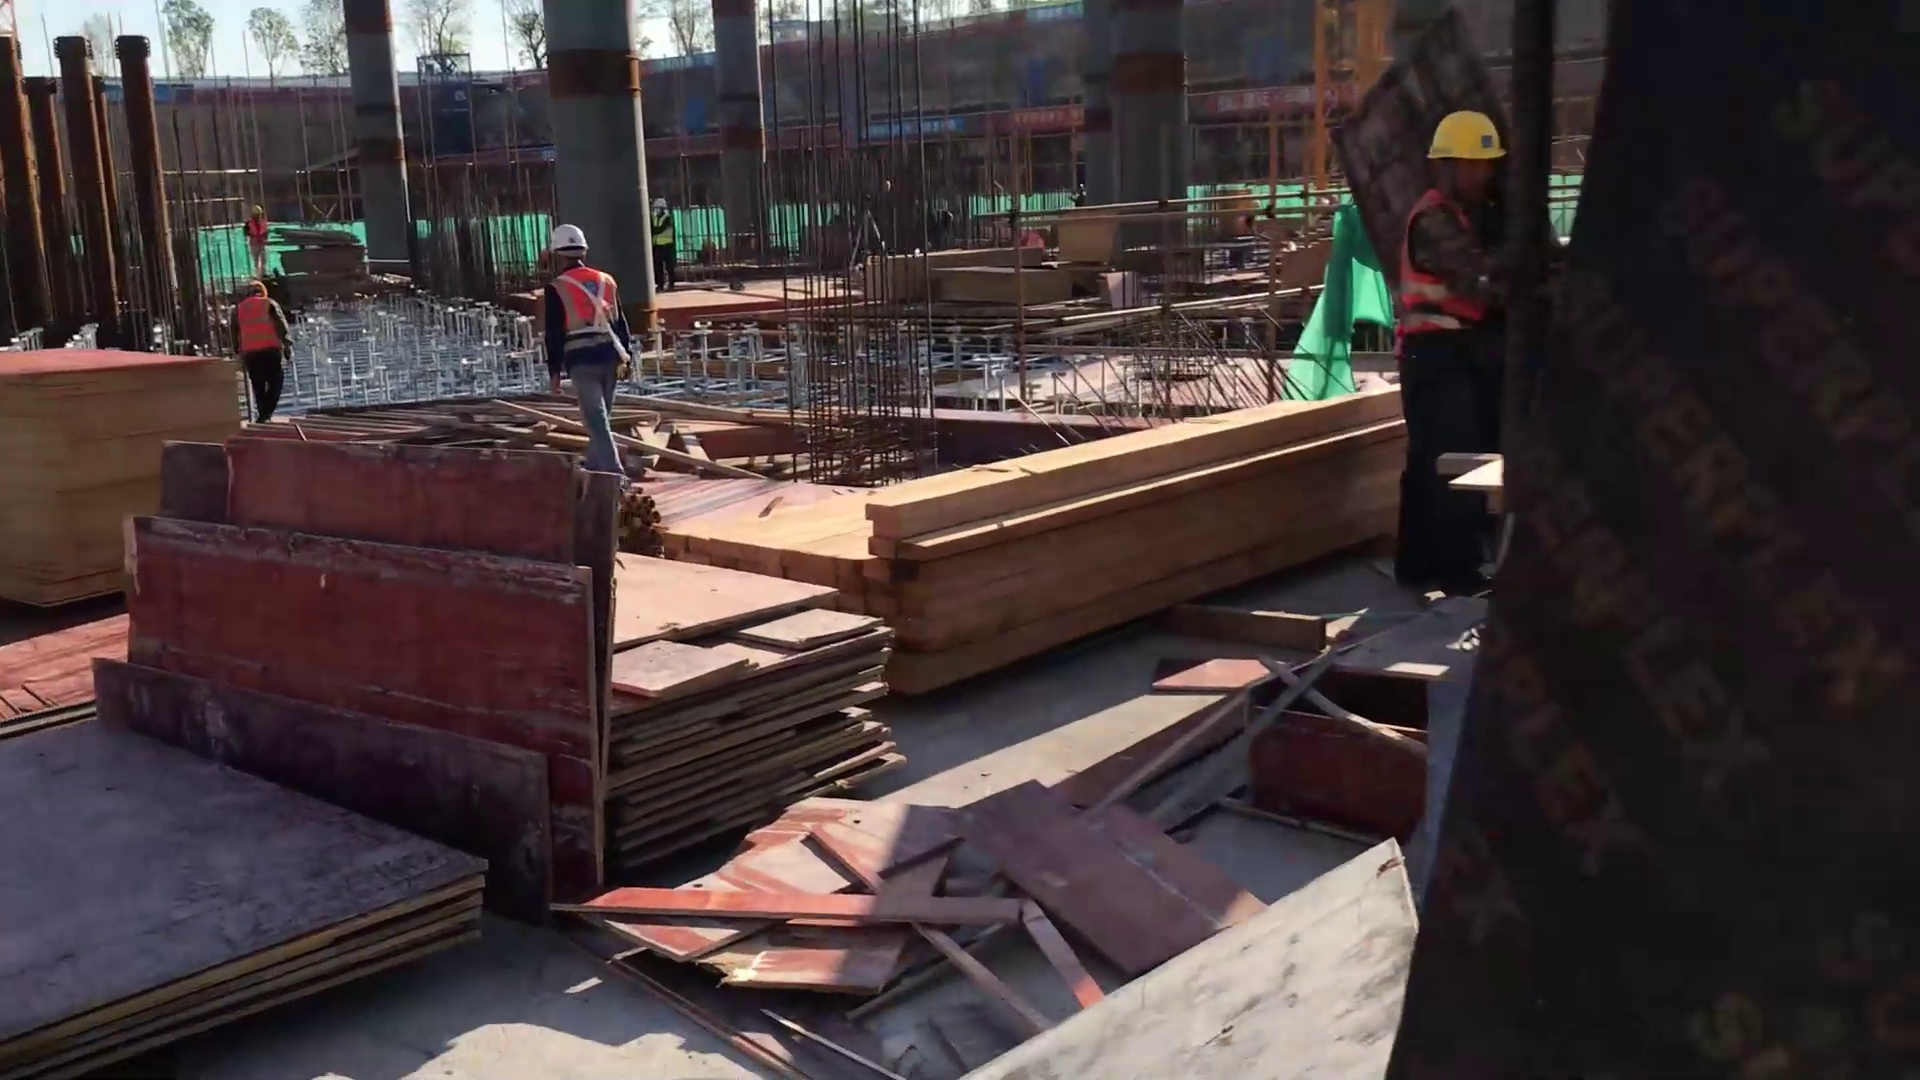board: (124, 536, 910, 845), (1, 700, 496, 1078), (1, 338, 248, 624)
helmet: (1417, 100, 1506, 166), (546, 218, 592, 259), (240, 275, 267, 301), (651, 194, 672, 215), (250, 201, 265, 220)
person: (1372, 93, 1524, 617), (524, 212, 638, 505), (217, 272, 303, 436), (642, 191, 688, 293), (236, 195, 282, 290)
vest: (1389, 180, 1494, 340), (546, 263, 628, 365), (229, 294, 286, 362), (647, 211, 681, 254), (243, 215, 271, 247)
wood: (679, 383, 1403, 719)
